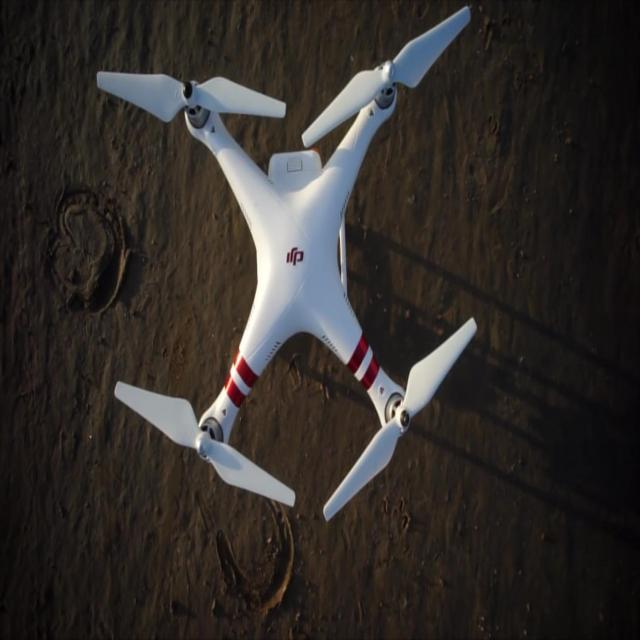drones: (63, 0, 499, 541)
